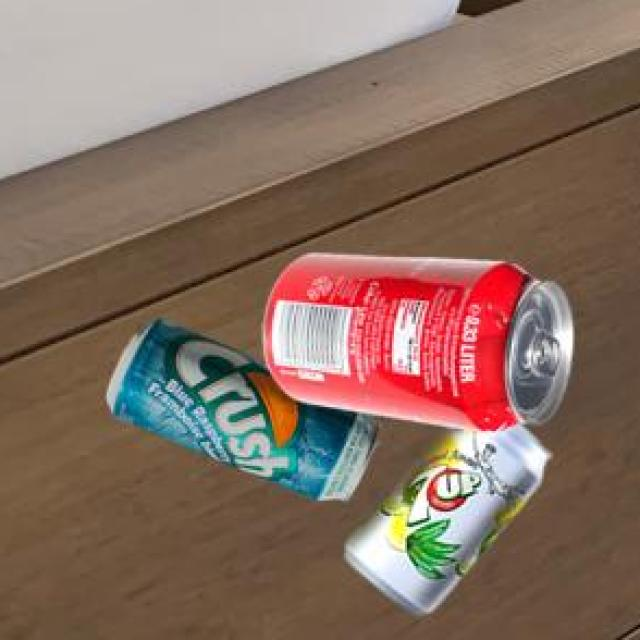logam: (260, 249, 569, 430), (103, 317, 378, 497), (343, 421, 547, 613)
